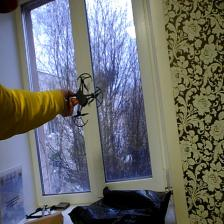drone: (61, 71, 104, 130)
